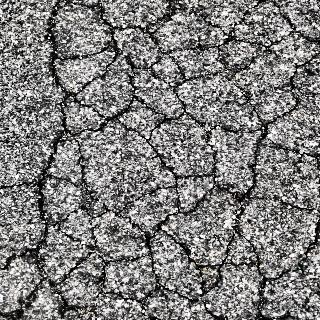alligator-crack: (8, 14, 306, 310)
